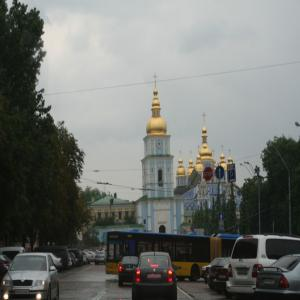Vehicle-registration-plate: (14, 289, 31, 297), (264, 279, 275, 287), (150, 273, 163, 279), (238, 269, 249, 276), (126, 268, 135, 273)
